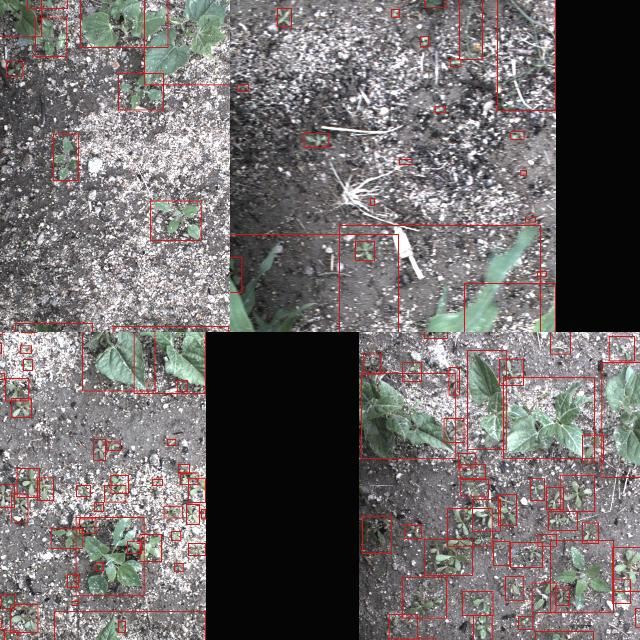crop: (339, 225, 540, 332), (230, 234, 399, 332), (360, 373, 456, 459), (144, 0, 230, 85), (504, 378, 594, 458), (464, 283, 555, 332), (54, 611, 206, 640), (134, 332, 206, 393), (602, 362, 640, 477), (82, 332, 155, 391), (80, 0, 168, 47), (468, 350, 507, 450), (0, 0, 41, 36)
weed: (498, 0, 556, 110), (76, 518, 144, 596), (550, 540, 614, 612), (151, 201, 201, 241), (402, 578, 446, 618), (446, 508, 492, 546), (424, 539, 472, 575), (118, 74, 164, 110), (459, 0, 482, 59), (560, 474, 594, 512), (52, 134, 78, 180), (613, 547, 640, 591), (36, 18, 66, 56), (362, 516, 391, 554), (472, 500, 500, 530), (510, 542, 542, 568), (10, 604, 38, 632), (388, 614, 418, 640), (16, 468, 40, 498), (532, 583, 556, 613), (462, 591, 492, 615), (51, 528, 83, 548), (499, 359, 523, 385), (609, 336, 635, 360), (140, 534, 162, 562), (582, 434, 604, 462), (498, 494, 516, 526), (548, 512, 578, 530), (5, 379, 29, 401), (504, 576, 524, 602), (10, 494, 28, 522), (444, 418, 464, 442), (473, 615, 492, 640), (492, 540, 510, 566), (460, 480, 488, 496), (188, 479, 206, 503), (613, 579, 631, 603), (550, 332, 570, 353), (11, 398, 31, 418), (402, 362, 422, 382), (546, 487, 564, 509), (230, 257, 241, 292), (459, 464, 485, 478), (356, 241, 374, 261), (37, 478, 53, 500), (104, 486, 126, 502), (582, 522, 598, 544), (364, 354, 381, 374), (304, 133, 328, 147), (26, 0, 67, 8), (111, 475, 129, 493), (0, 484, 14, 507), (530, 479, 544, 501), (449, 367, 459, 395), (187, 504, 200, 524), (6, 60, 22, 76), (80, 518, 96, 534), (277, 9, 291, 27), (555, 588, 569, 606), (458, 454, 476, 468), (404, 525, 422, 539), (94, 440, 106, 460), (518, 616, 534, 630), (164, 506, 182, 518), (188, 543, 206, 555), (180, 473, 198, 485), (538, 534, 556, 546), (127, 540, 141, 554), (2, 595, 15, 609), (424, 0, 445, 7), (68, 574, 78, 588), (76, 486, 90, 496), (106, 442, 120, 451), (178, 464, 190, 474), (4, 631, 17, 640), (177, 381, 187, 392), (23, 360, 33, 370), (512, 131, 524, 139), (635, 608, 640, 627), (95, 502, 104, 512), (236, 85, 248, 92), (118, 621, 125, 633), (420, 36, 428, 46), (450, 59, 460, 67), (171, 532, 181, 540), (20, 346, 32, 352), (174, 564, 183, 572), (391, 9, 399, 17), (435, 106, 445, 112), (526, 216, 536, 222), (153, 479, 163, 485), (398, 160, 412, 164), (168, 439, 176, 445), (96, 562, 102, 570), (0, 628, 4, 640), (202, 509, 206, 519), (370, 198, 374, 206), (538, 272, 546, 276), (522, 170, 526, 176), (72, 601, 78, 605), (0, 374, 3, 380)
